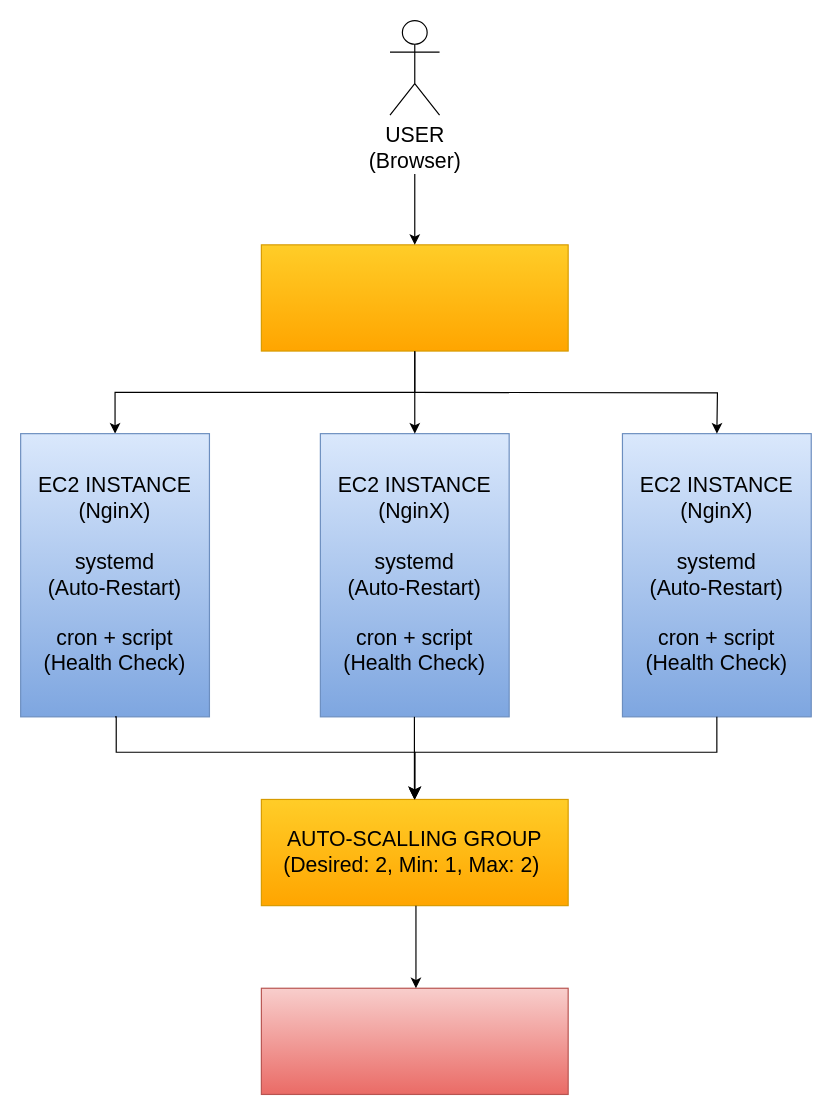
Image size: 832x1115. Some labels were removed from this diagram. Here are the shapes that lost their labels. From the top down, the centre of each, then its label:
the point at 414,297: APPLICATION LOAD BALANCER (HTTP : Port 80)
the point at 414,1040: CloudWatch (Monitoring/Alarm)
